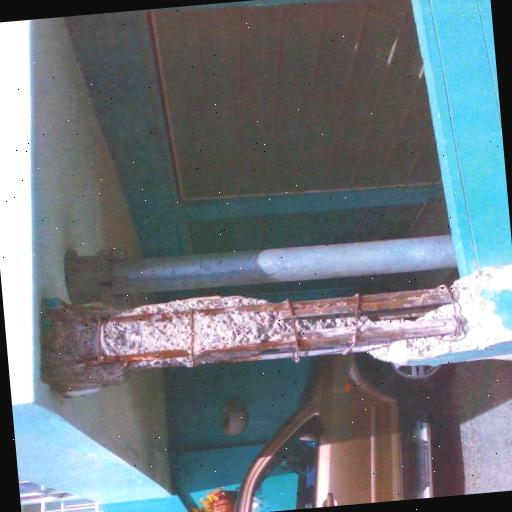spalling: (44, 268, 472, 392)
